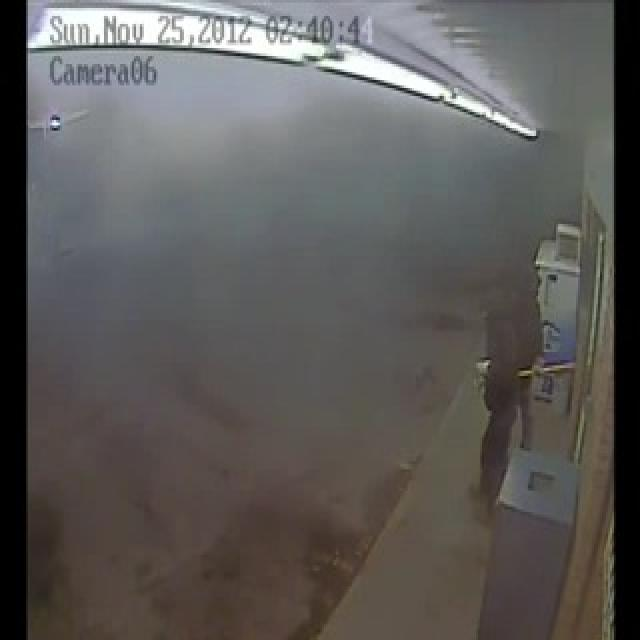burglary: (496, 225, 602, 466)
